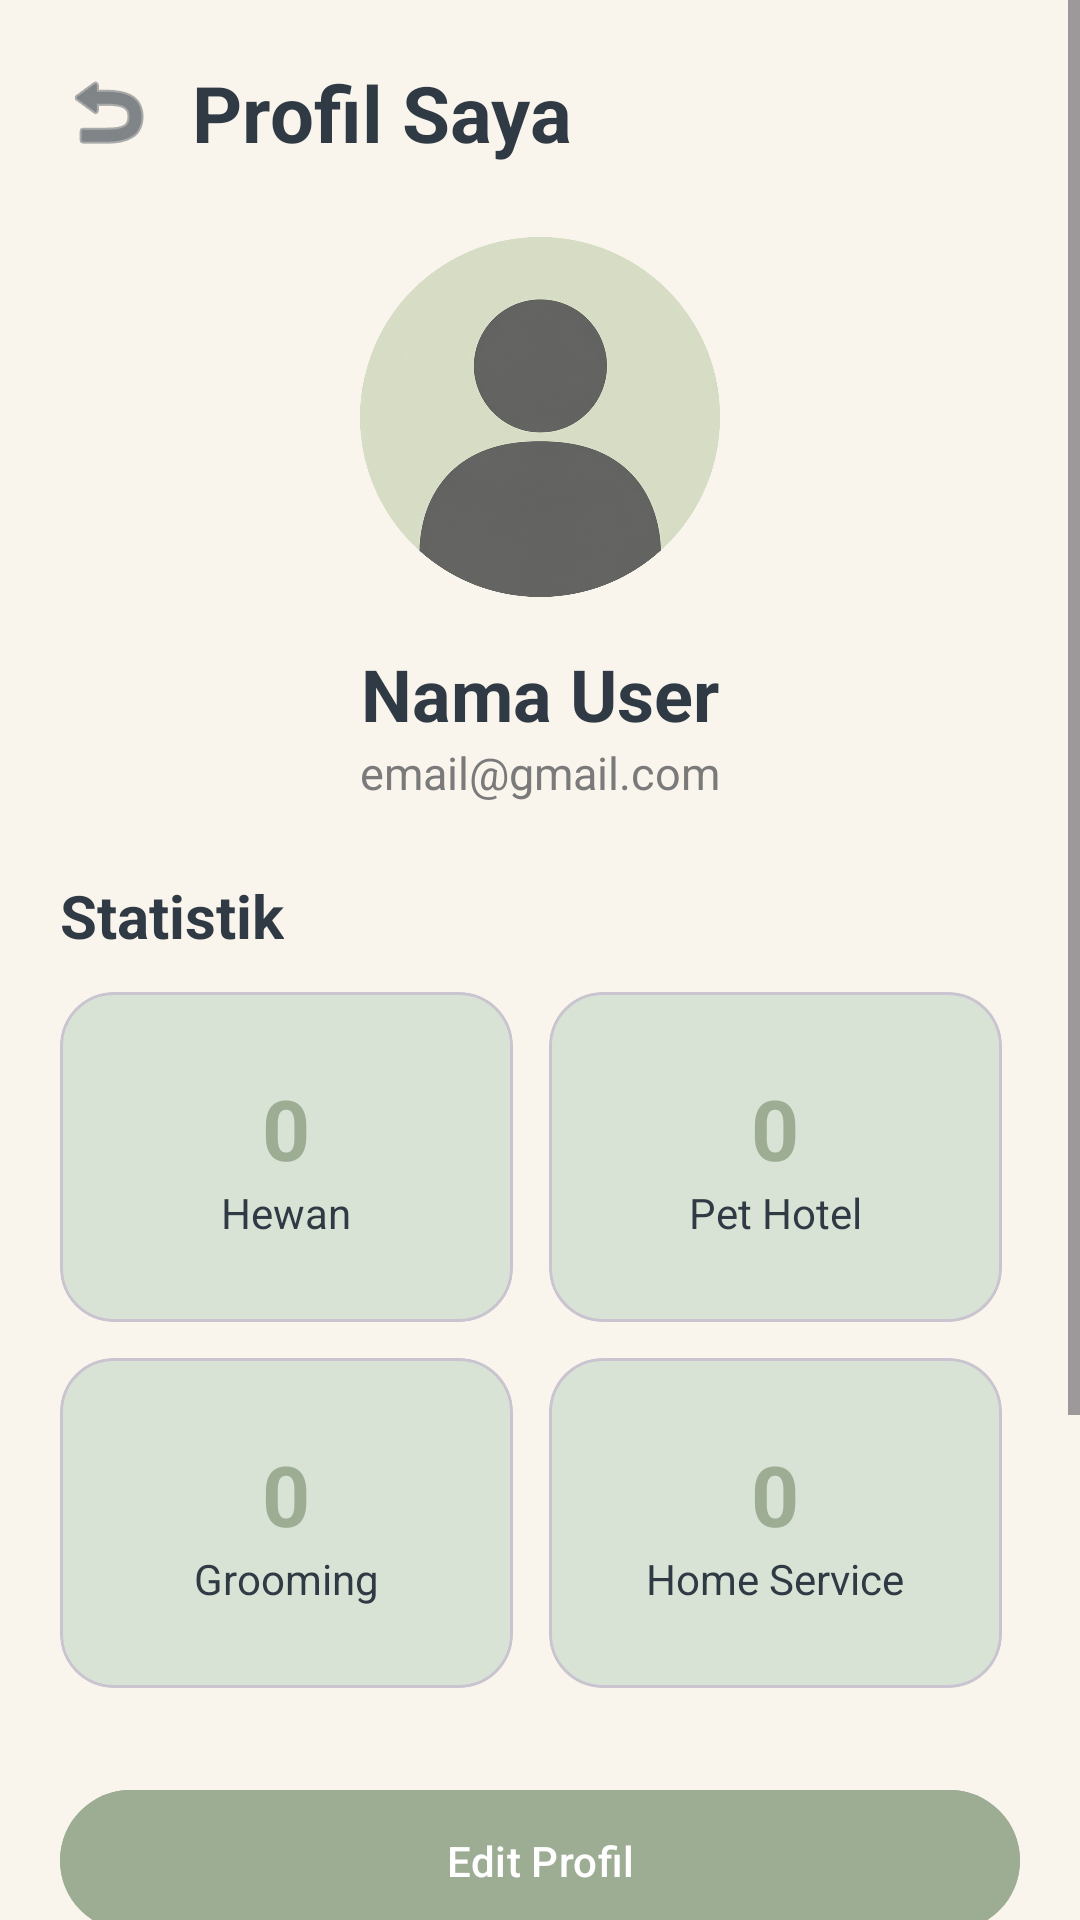

Where icons sit on this 1080*1920 app screen, as bbox=[x1, y1, x2, y2]:
foto profil: bbox=[360, 237, 720, 597]
revert: bbox=[75, 81, 144, 144]
